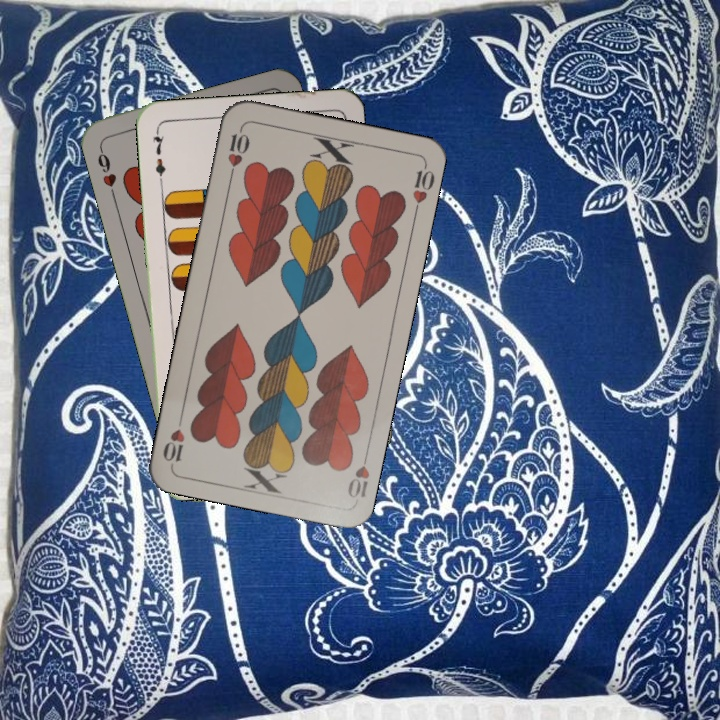E7: (148, 126, 168, 185)
H10: (223, 123, 252, 182), (343, 446, 372, 501)
H9: (93, 142, 119, 200)
